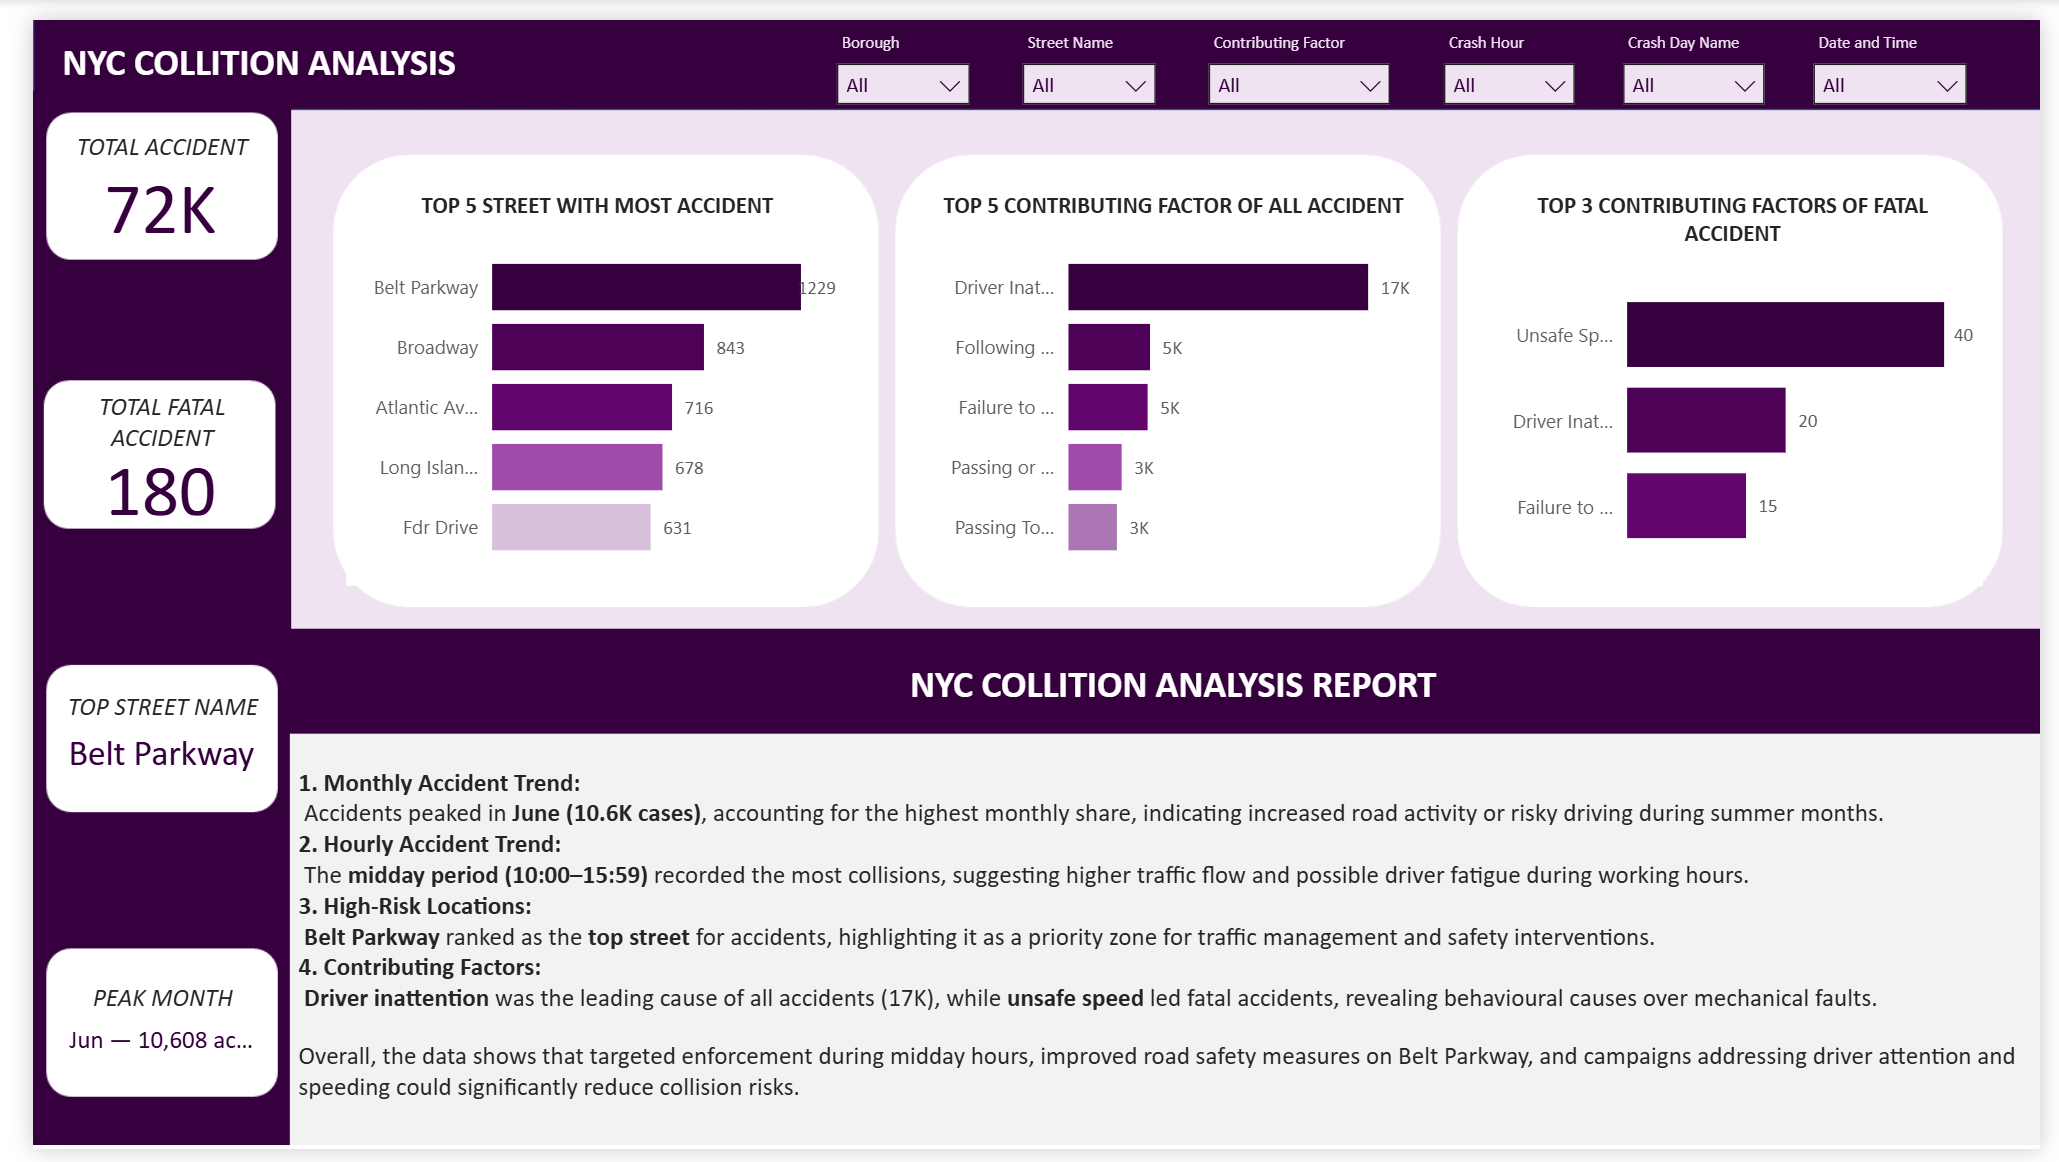

Layout of this report page (visuals, bound fields, positions):
{"tool":"powerbi","page":{"name":"VISUAL 2","canvas":[1280,720],"ordinal":1},"visuals":[{"type":"clusteredBarChart","title":"TOP 5 STREET WITH MOST ACCIDENT","fields":{"Category":["NYC_Collisions.Street Name"],"Y":["Measure_Load.AccidentCount"]},"box":[200.6,108.1,318.2,252.2],"z":0},{"type":"clusteredBarChart","title":"TOP 5 CONTRIBUTING FACTOR OF ALL ACCIDENT","fields":{"Y":["Measure_Load.AccidentCount"],"Category":["NYC_Collisions.Contributing Factor"]},"box":[569.2,108.1,315.8,252.2],"z":1000},{"type":"clusteredBarChart","title":"TOP 3 CONTRIBUTING FACTORS OF FATAL ACCIDENT","fields":{"Y":["Measure_Load.AccidentCount"],"Category":["NYC_Collisions.Contributing Factor"]},"box":[922.3,108.1,320.6,252.2],"z":2000},{"type":"card","title":"TOTAL ACCIDENT","fields":{"Values":["Measure_Load.Total Accidents"]},"box":[18.3,70,125.8,73.3],"z":3000},{"type":"card","title":"TOTAL FATAL ACCIDENT","fields":{"Values":["Measure_Load.FatalAccidentCount"]},"box":[18.3,235.8,125.8,86.7],"z":4000},{"type":"card","title":"TOP STREET NAME","fields":{"Values":["Measure_Load.TopStreetName"]},"box":[12.5,426.7,138.3,65.8],"z":5000},{"type":"card","title":"PEAK MONTH","fields":{"Values":["Measure_Load.PeakMonthSummary"]},"box":[15,612.5,132.5,62.5],"z":6000},{"type":"slicer","title":"Borough","fields":{"Values":["NYC_Collisions.Borough"]},"box":[502.2,2.2,104.4,58.9],"z":7000},{"type":"slicer","title":"Borough","fields":{"Values":["NYC_Collisions.Street Name"]},"box":[621.1,2.2,104.4,58.9],"z":8000},{"type":"slicer","title":"Borough","fields":{"Values":["NYC_Collisions.Contributing Factor"]},"box":[740,2.2,135.6,58.9],"z":9000},{"type":"slicer","title":"Borough","fields":{"Values":["NYC_Collisions.CrashHour"]},"box":[890,3.3,103.3,58.9],"z":10000},{"type":"slicer","title":"Borough","fields":{"Values":["NYC_Collisions.CrashDayName"]},"box":[1004.4,2.2,110,58.9],"z":11000},{"type":"slicer","title":"Borough","fields":{"Values":["NYC_Collisions.Date","NYC_Collisions.Date.Variation.Date Hierarchy.Year","NYC_Collisions.Date.Variation.Date Hierarchy.Month","NYC_Collisions.Date.Variation.Date Hierarchy.Day"]},"box":[1125.6,2.2,117.8,58.9],"z":12000},{"type":"textbox","box":[8.9,7.8,271.1,45.6],"z":13000},{"type":"textbox","box":[541.5,404.3,371.3,45.4],"z":14000},{"type":"textbox","box":[165,471.2,1115,240],"z":15000}]}

Visuals, with their boxes in screenshot pixels (x1, y1, x2, y2), scaled from the page's 1280x720 canvas onto the 2059x1162 screenshot:
"TOP 5 STREET WITH MOST ACCIDENT" clusteredBarChart: select_region(323, 174, 835, 581)
"TOP 5 CONTRIBUTING FACTOR OF ALL ACCIDENT" clusteredBarChart: select_region(916, 174, 1424, 581)
"TOP 3 CONTRIBUTING FACTORS OF FATAL ACCIDENT" clusteredBarChart: select_region(1484, 174, 1999, 581)
"TOTAL ACCIDENT" card: select_region(29, 113, 232, 231)
"TOTAL FATAL ACCIDENT" card: select_region(29, 381, 232, 520)
"TOP STREET NAME" card: select_region(20, 689, 243, 795)
"PEAK MONTH" card: select_region(24, 989, 237, 1089)
"Borough" slicer: select_region(808, 4, 976, 99)
"Borough" slicer: select_region(999, 4, 1167, 99)
"Borough" slicer: select_region(1190, 4, 1408, 99)
"Borough" slicer: select_region(1432, 5, 1598, 100)
"Borough" slicer: select_region(1616, 4, 1793, 99)
"Borough" slicer: select_region(1811, 4, 2000, 99)
textbox: select_region(14, 13, 450, 86)
textbox: select_region(871, 652, 1468, 726)
textbox: select_region(265, 760, 2058, 1148)
